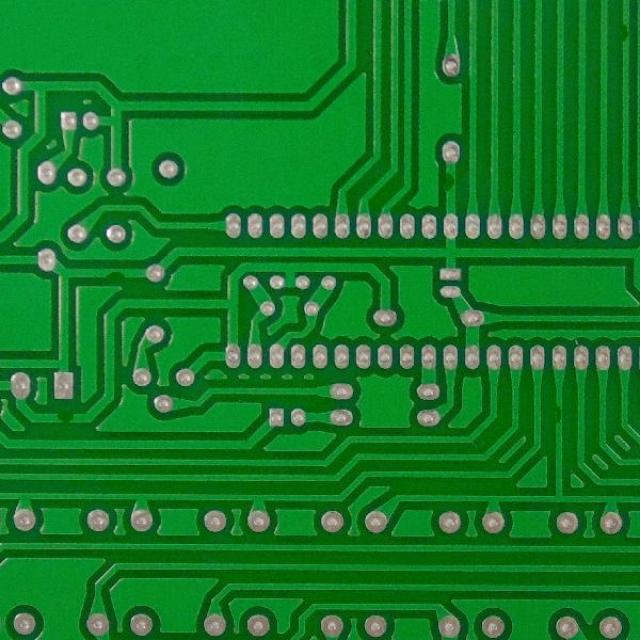mouse_bite: (98, 264, 130, 284), (440, 168, 461, 198), (614, 18, 635, 48), (52, 407, 80, 428), (550, 401, 568, 431)
